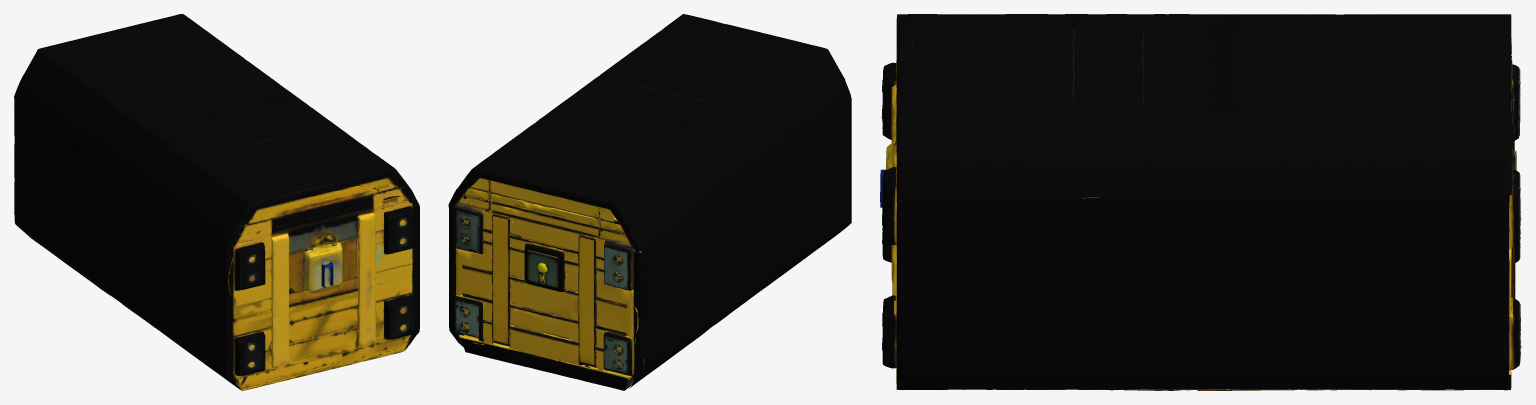
File: lootchest.glb
The picture shows the model from 3 angles, left to right: view 1: azimuth 30°, elevation 25°; view 2: azimuth 150°, elevation 25°; view 3: azimuth 270°, elevation 25°; orthographic projection. The views are drawn at different scales.
Visible parts, largest first — view 1: world; view 2: world; view 3: world.
Boxes of the visible parts, x1,y1,x2,y2 form: world: (14,14,419,390); world: (448,14,851,390); world: (880,14,1521,390).
Size of the model in its own units: 0.5014 by 0.4615 by 0.9915.
Materials: 1 (1 with a texture image).
